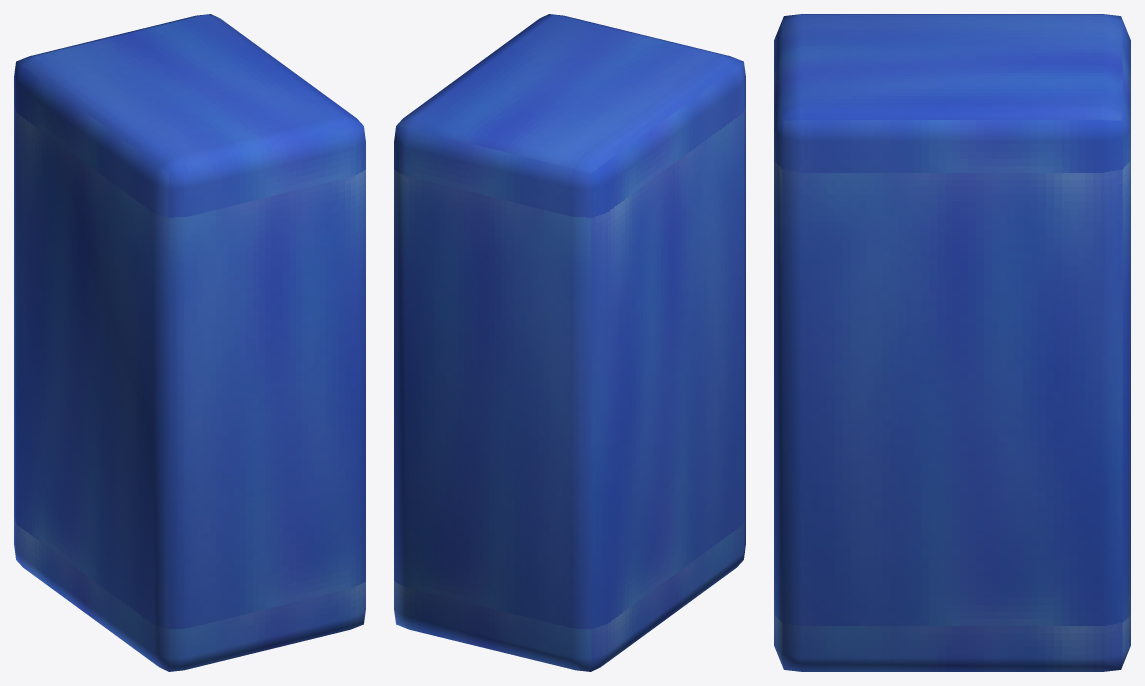
The model's file is machicolation0.fbx.
3 renders of one model, left to right at view 1: azimuth 30°, elevation 25°; view 2: azimuth 150°, elevation 25°; view 3: azimuth 270°, elevation 25°, orthographic. The views are drawn at different scales.
Visible parts, largest first — view 1: Cube; view 2: Cube; view 3: Cube.
Boxes of the visible parts, x1,y1,x2,y2 form: Cube: (14,14,365,671); Cube: (394,14,745,671); Cube: (774,14,1130,671).
Size of the model in its own units: 1.07 by 2.5 by 1.43.
